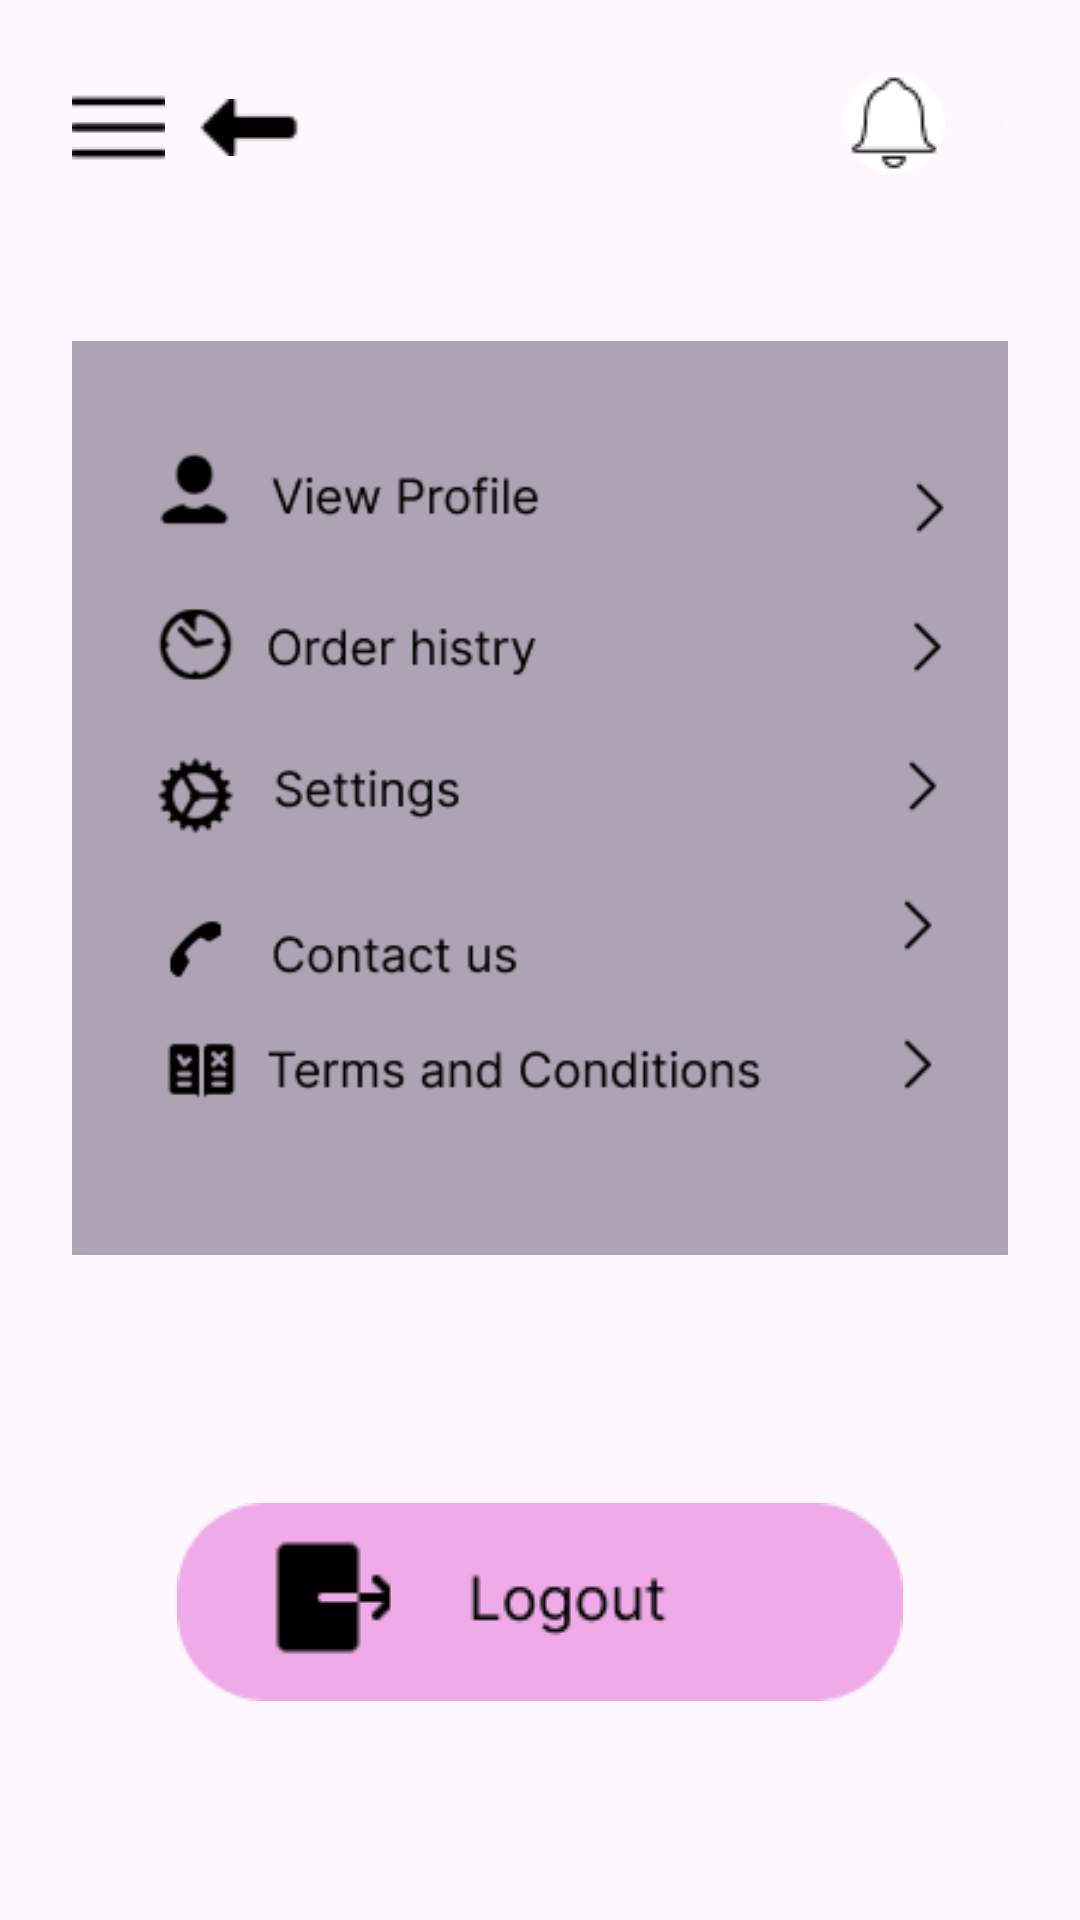

Icon bounding boxes for this 1080px x 1920px phone screenshot, format (x1, y1, x2, y2):
arow: (200, 99, 298, 156)
bel: (851, 77, 937, 169)
menu: (72, 95, 165, 160)
